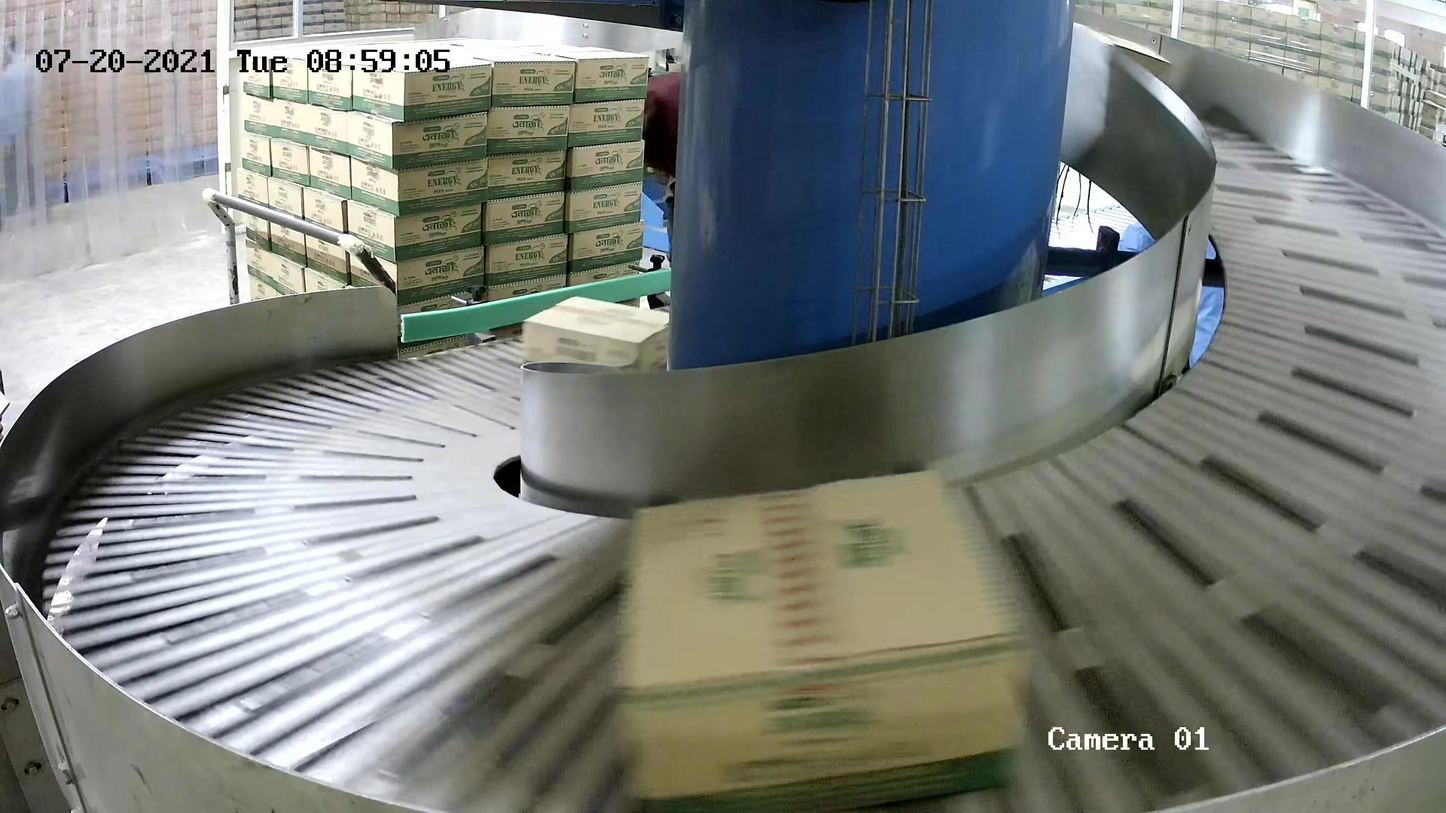Box: (613, 465, 1036, 813), (522, 294, 680, 400)
